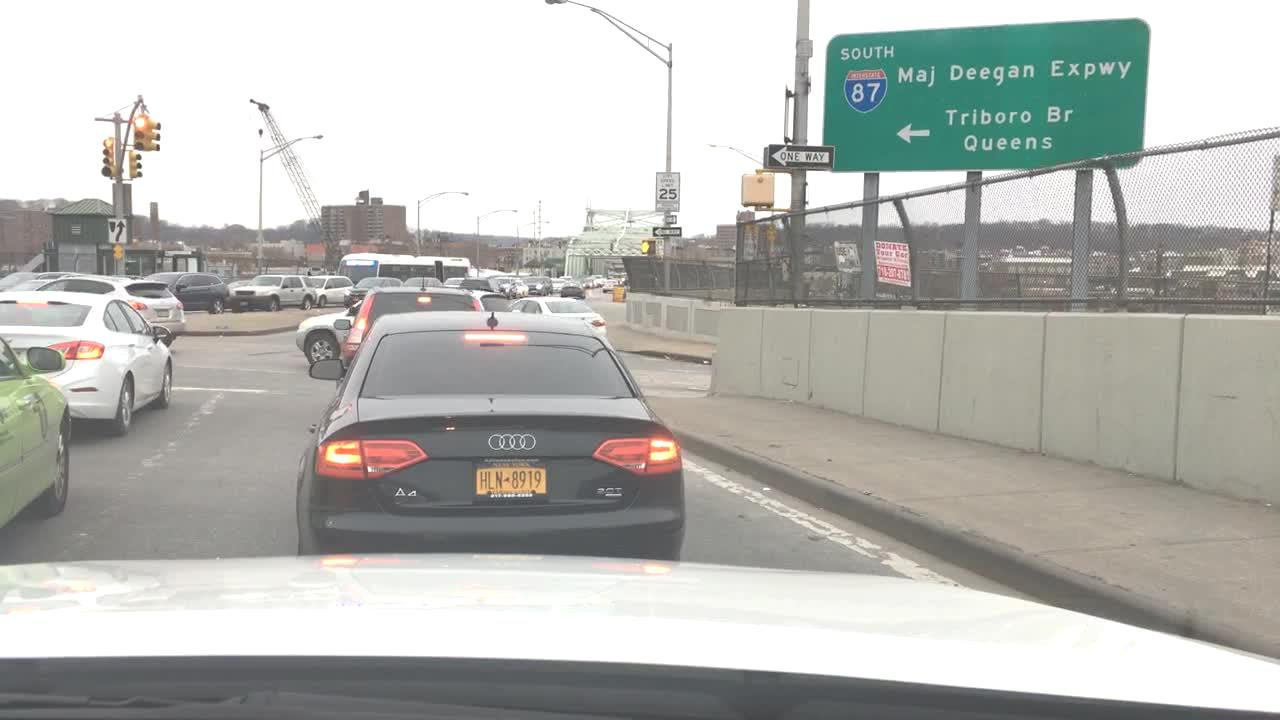Audi: (483, 429, 540, 456)
